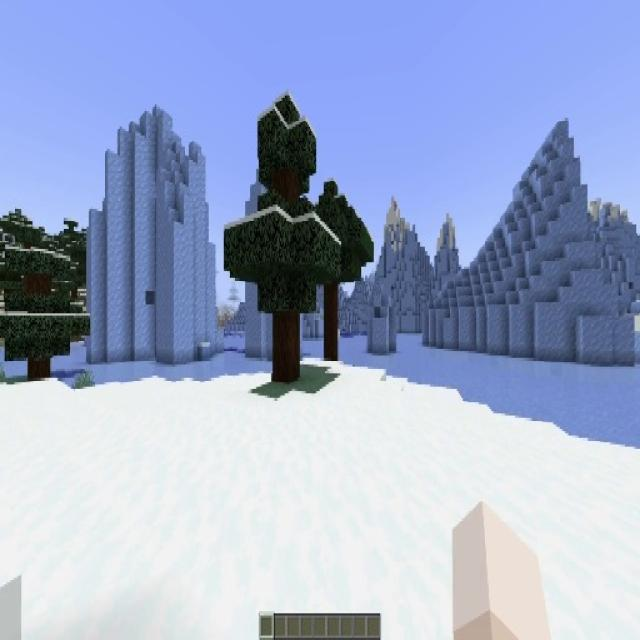spruce: (235, 96, 333, 382), (302, 178, 374, 366)
spruce_log: (0, 235, 90, 379), (272, 314, 302, 384), (324, 284, 339, 360), (27, 355, 50, 380)
